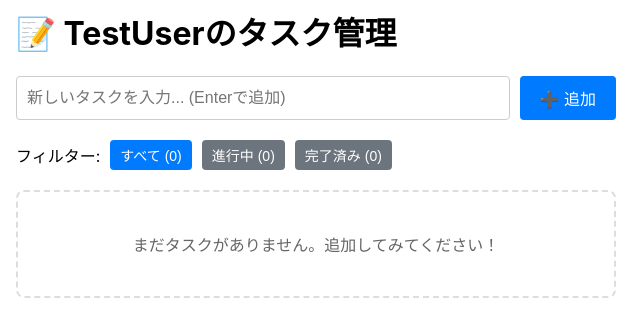
Test case: Edge Cases Tests › エッジケーステスト › Edge-006: XSS攻撃を防ぐ（Reactのデフォルトエスケープ）
The image size is (633, 315).
Type "<script>alert(\"XSS\")</script>" into the field with placeholder "新しいタスクを入力... (Enterで追加)". click: [263, 98]
box: [16,76,510,120]
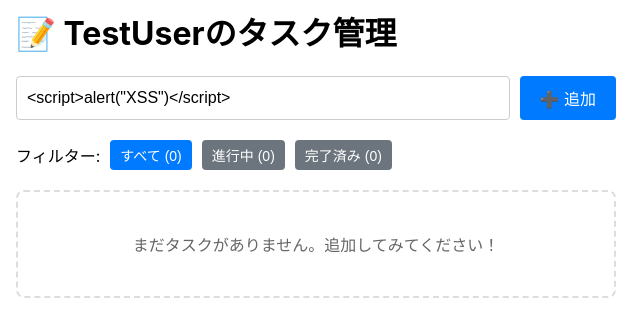
Click the button "➕ 追加". click: [568, 98]
box: [520,76,616,120]
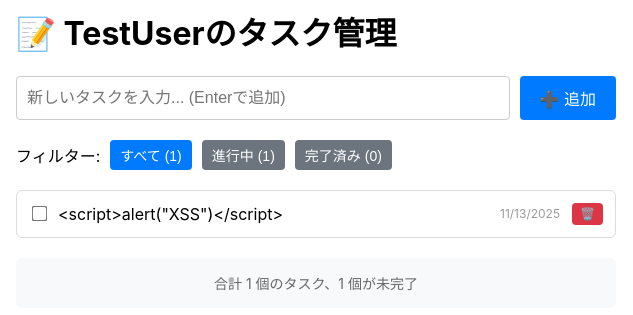
Now the text "<script>alert(\"XSS\")</script>" is shown, box [58,204,283,224]
Now the number of checkboxes is 1, box [32,206,47,222]
